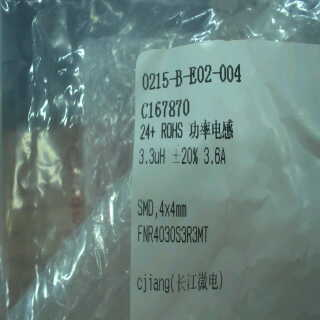3.3uH: (134, 145, 167, 169)
